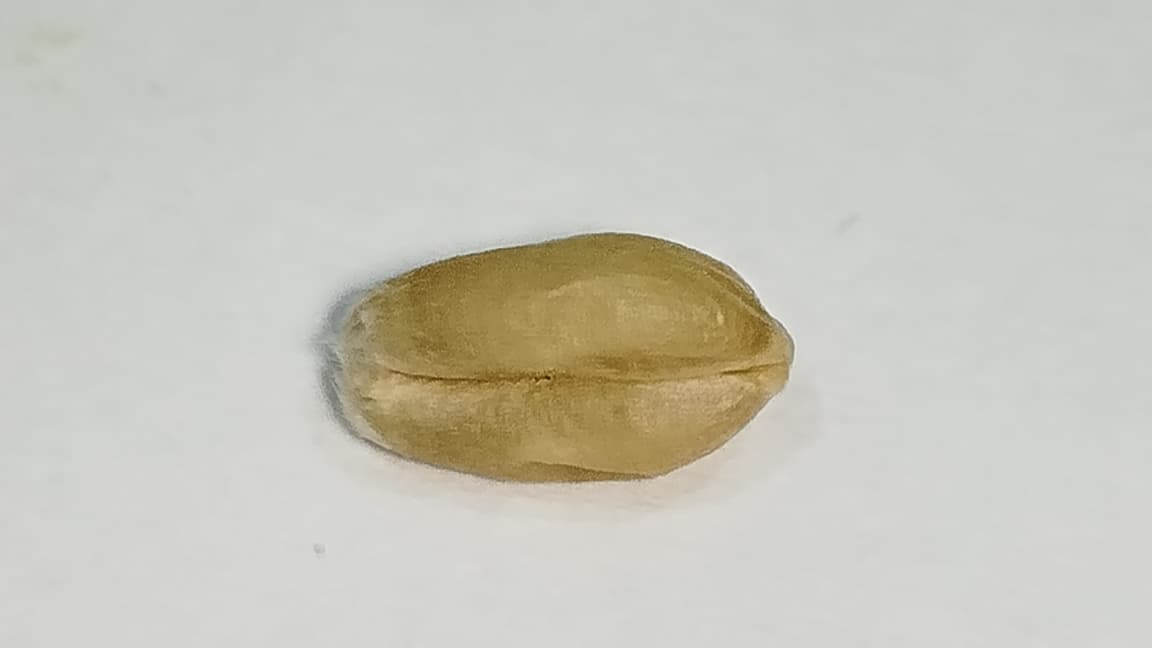healthy: (336, 233, 792, 480)
